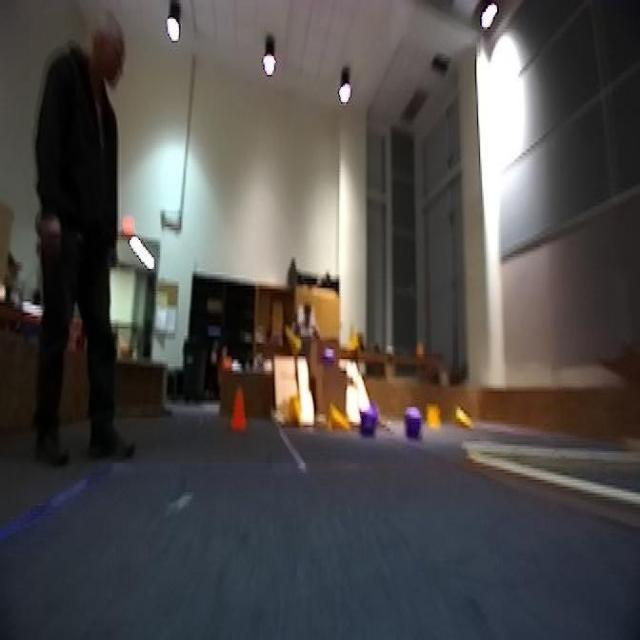frc_cone: (280, 318, 303, 363), (326, 405, 351, 431), (288, 393, 304, 429), (450, 408, 475, 431), (345, 322, 360, 354), (426, 398, 440, 429)
frc_cube: (361, 409, 378, 434), (322, 350, 336, 368), (407, 417, 417, 434)
